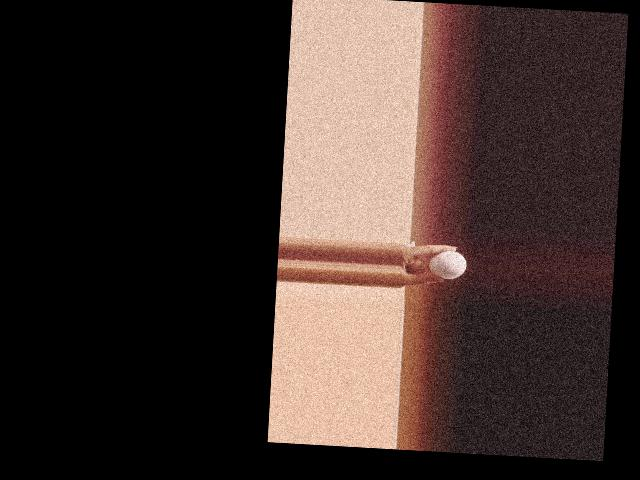egg: (427, 250, 466, 280)
